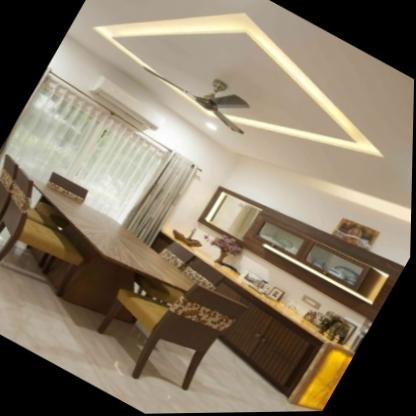Ceramic floor: (0, 245, 318, 414)
Cupboard: (159, 242, 356, 406)
Curtains: (111, 138, 209, 255)
Dining Table: (0, 151, 251, 392)
Gypsum Board: (43, 0, 416, 267)
